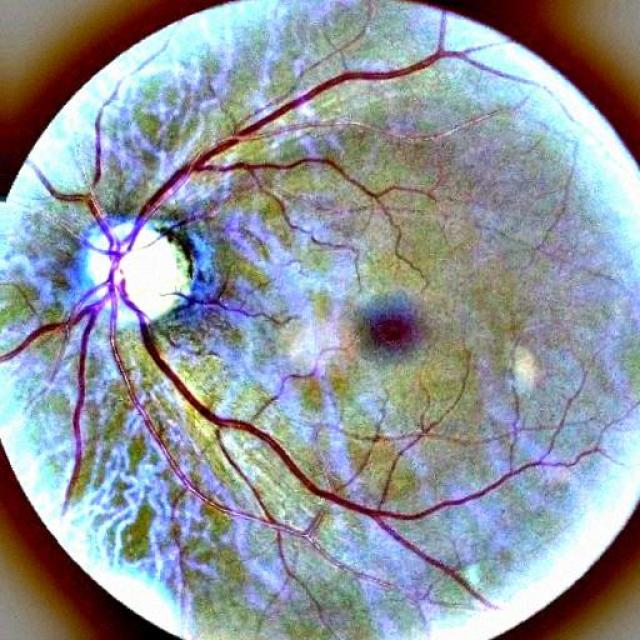Macula: (371, 315, 411, 346)
Nerves: (0, 11, 600, 606)
Optic Disk: (86, 220, 190, 324)
